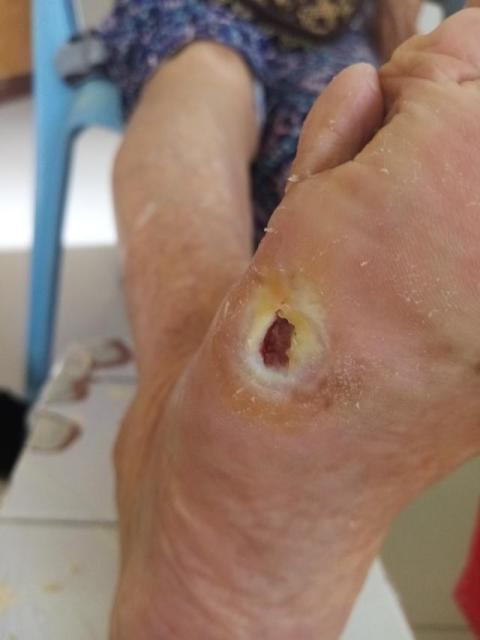wound: (251, 297, 312, 385)
